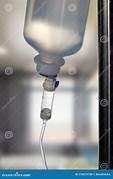Iv_Bottle: (24, 0, 89, 67)
